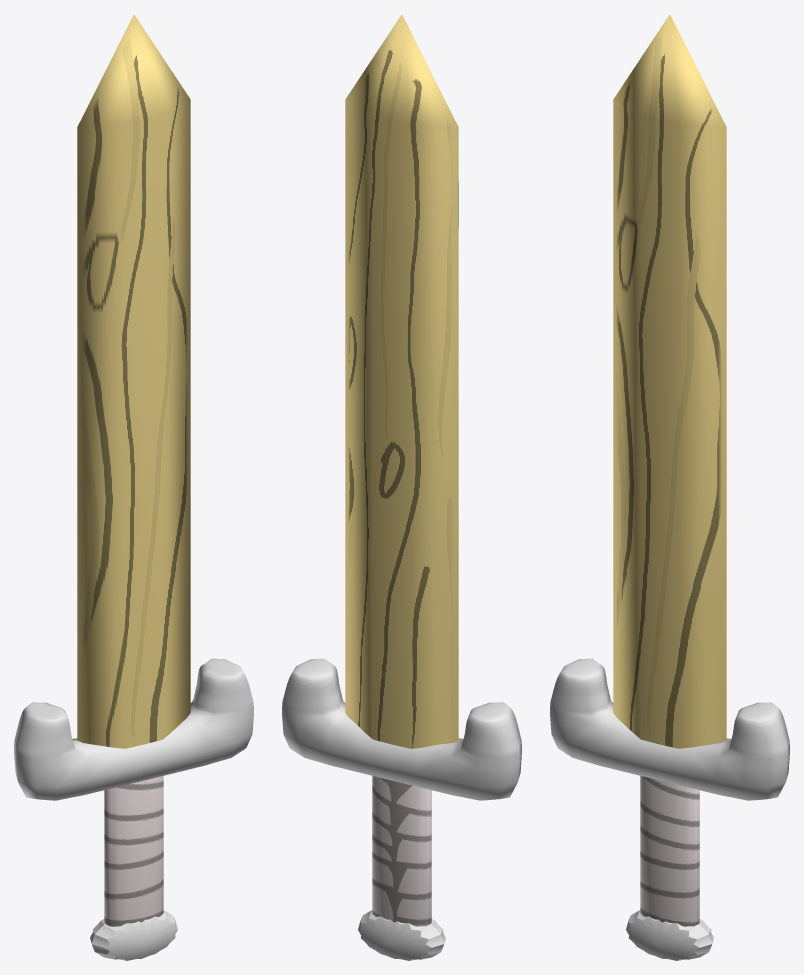
Rendered from Espada heeru.fbx.
3 renders of one model, left to right at view 1: azimuth 30°, elevation 25°; view 2: azimuth 150°, elevation 25°; view 3: azimuth 330°, elevation 25°, orthographic.
Visible parts, largest first — view 1: Cube, Cube.001, Cylinder, Cylinder.001; view 2: Cube, Cube.001, Cylinder, Cylinder.001; view 3: Cube, Cube.001, Cylinder, Cylinder.001.
Boxes of the visible parts, left/top/right/bottom form: Cube: left=77, top=14, right=190, bottom=748; Cube.001: left=14, top=658, right=253, bottom=800; Cylinder: left=104, top=776, right=163, bottom=926; Cylinder.001: left=90, top=910, right=177, bottom=960; Cube: left=345, top=14, right=458, bottom=748; Cube.001: left=282, top=658, right=521, bottom=800; Cylinder: left=372, top=776, right=431, bottom=926; Cylinder.001: left=358, top=910, right=445, bottom=960; Cube: left=613, top=14, right=726, bottom=748; Cube.001: left=550, top=658, right=789, bottom=800; Cylinder: left=640, top=776, right=699, bottom=926; Cylinder.001: left=626, top=910, right=713, bottom=960.
Size of the model in its own units: 54.3 by 209 by 11.51.
Materials: 3 (2 with a texture image).
